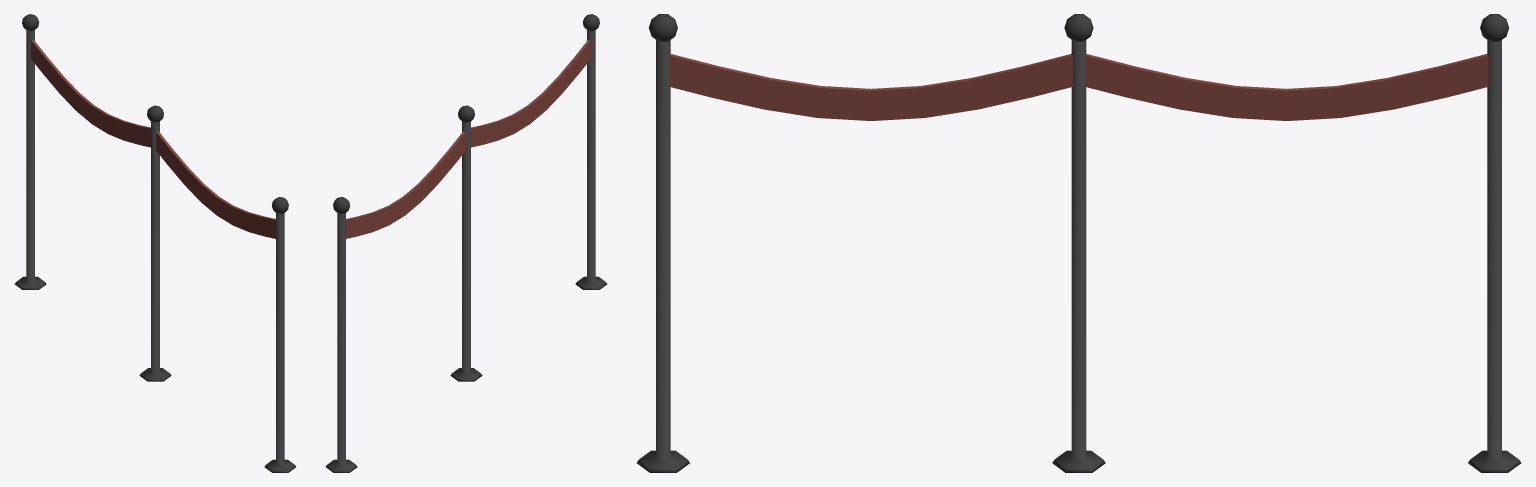
Rendered from fence_rope.glb.
3 renders of one model, left to right at view 1: azimuth 30°, elevation 25°; view 2: azimuth 150°, elevation 25°; view 3: azimuth 270°, elevation 25°, orthographic. The views are drawn at different scales.
Visible parts, largest first — view 1: fence_pillar.001, fence_pillar, fence_pillar.002, fence_rope, fence_rope.001; view 2: fence_pillar.002, fence_pillar, fence_pillar.001, fence_rope.001, fence_rope; view 3: fence_rope, fence_rope.001, fence_pillar, fence_pillar.001, fence_pillar.002.
Part boxes in pixels (<box>): fence_pillar.001: <box>264,197,295,472</box>; fence_pillar: <box>139,105,171,381</box>; fence_pillar.002: <box>14,14,46,289</box>; fence_rope: <box>31,39,150,147</box>; fence_rope.001: <box>156,131,275,238</box>; fence_pillar.002: <box>326,197,357,472</box>; fence_pillar: <box>450,105,482,381</box>; fence_pillar.001: <box>575,14,607,289</box>; fence_rope.001: <box>471,39,590,147</box>; fence_rope: <box>346,131,465,238</box>; fence_rope: <box>1085,54,1488,120</box>; fence_rope.001: <box>669,54,1072,120</box>; fence_pillar: <box>1052,14,1105,472</box>; fence_pillar.001: <box>636,14,689,472</box>; fence_pillar.002: <box>1468,14,1521,472</box>.
Bounding box in the file's own units: 0.1121 × 1.19 × 2.13.
